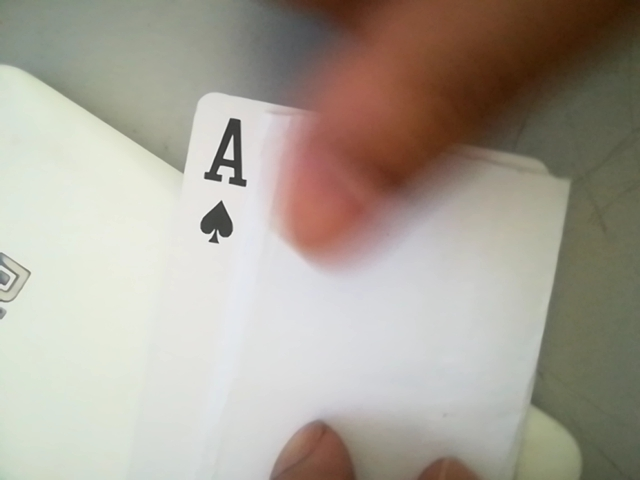ht a: (191, 106, 262, 256)
